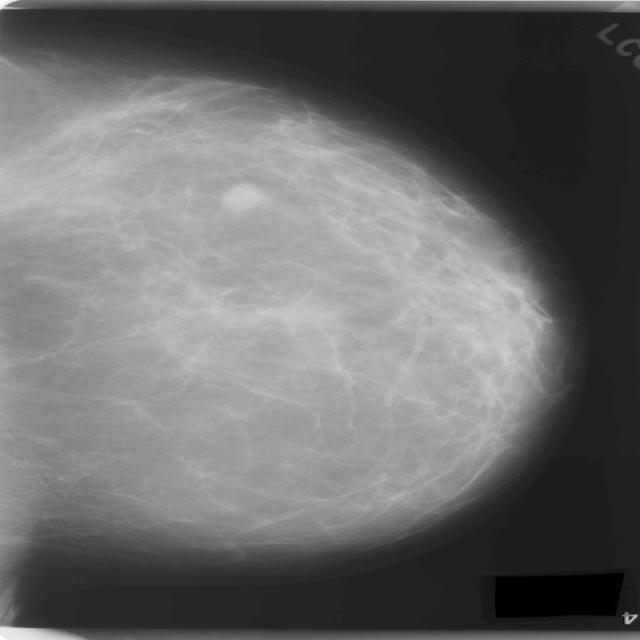tumour: (218, 179, 265, 212)
